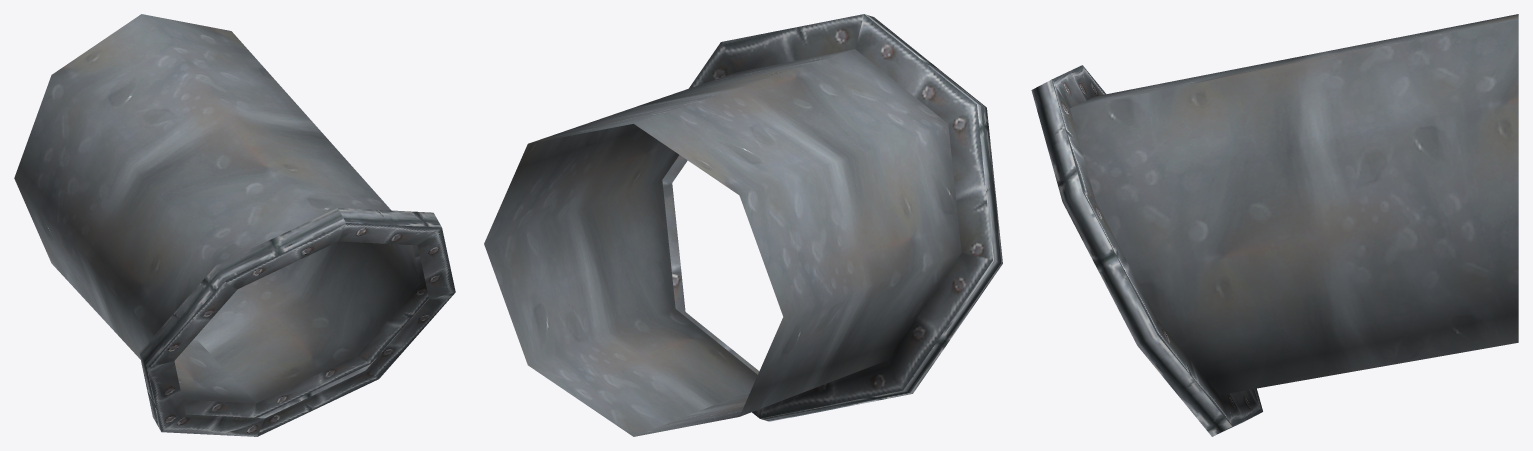
The model's file is Pipe30.fbx.
3 renders of one model, left to right at view 1: azimuth 30°, elevation 25°; view 2: azimuth 150°, elevation 25°; view 3: azimuth 270°, elevation 25°, orthographic. The views are drawn at different scales.
Parts seen in each view (by area): view 1: Cylinder_011; view 2: Cylinder_011; view 3: Cylinder_011.
Part boxes in pixels (x1=…): Cylinder_011: x1=14, y1=14, x2=455, y2=436; Cylinder_011: x1=484, y1=14, x2=1002, y2=436; Cylinder_011: x1=1031, y1=14, x2=1518, y2=436.
Size of the model in its own units: 1.47 by 1.54 by 1.69.
